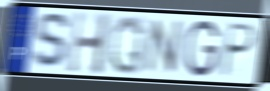G: (184, 19, 221, 79)
H: (66, 9, 113, 77)
N: (142, 17, 186, 74)
P: (217, 21, 258, 79)
Q: (108, 14, 146, 76)
S: (30, 10, 74, 72)
